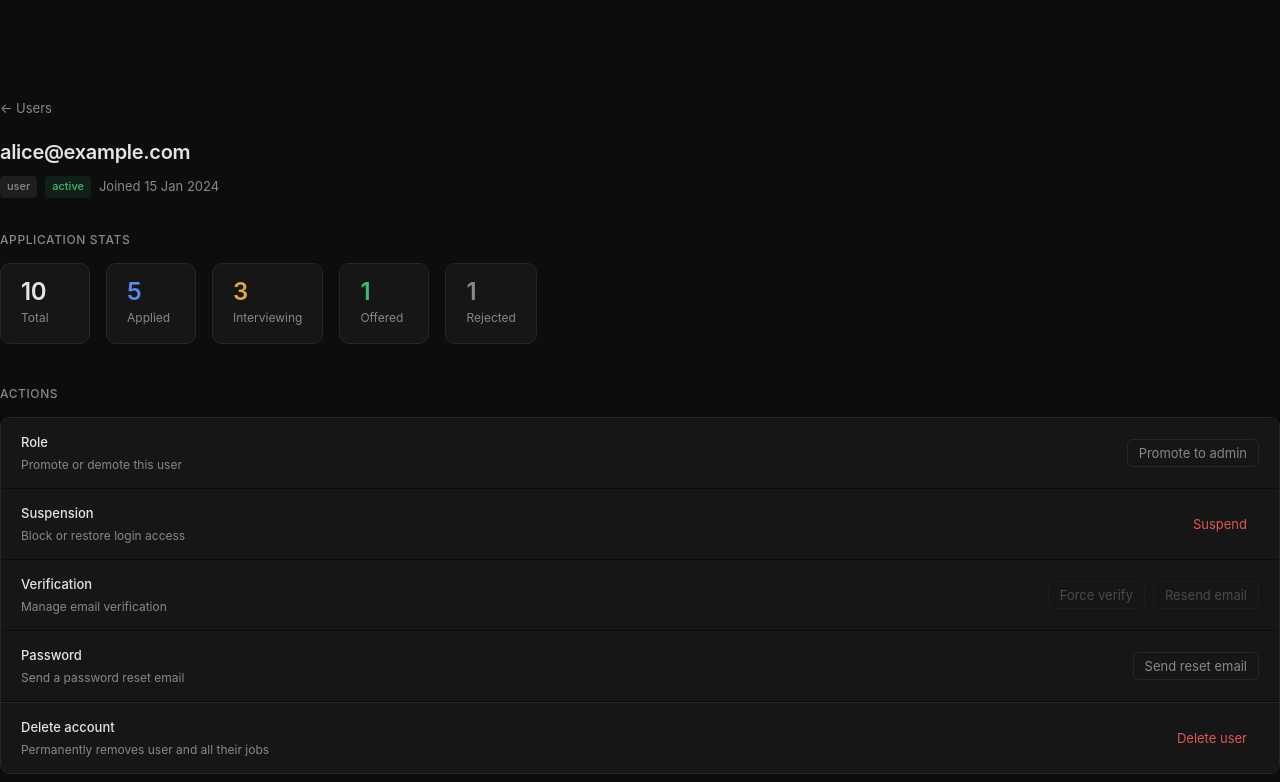
AdminUserDetail › optimistically updates role badge after setRole succeeds
Click the button "Promote to admin".
click(1193, 453)  # box x1=1127 y1=439 x2=1259 y2=467
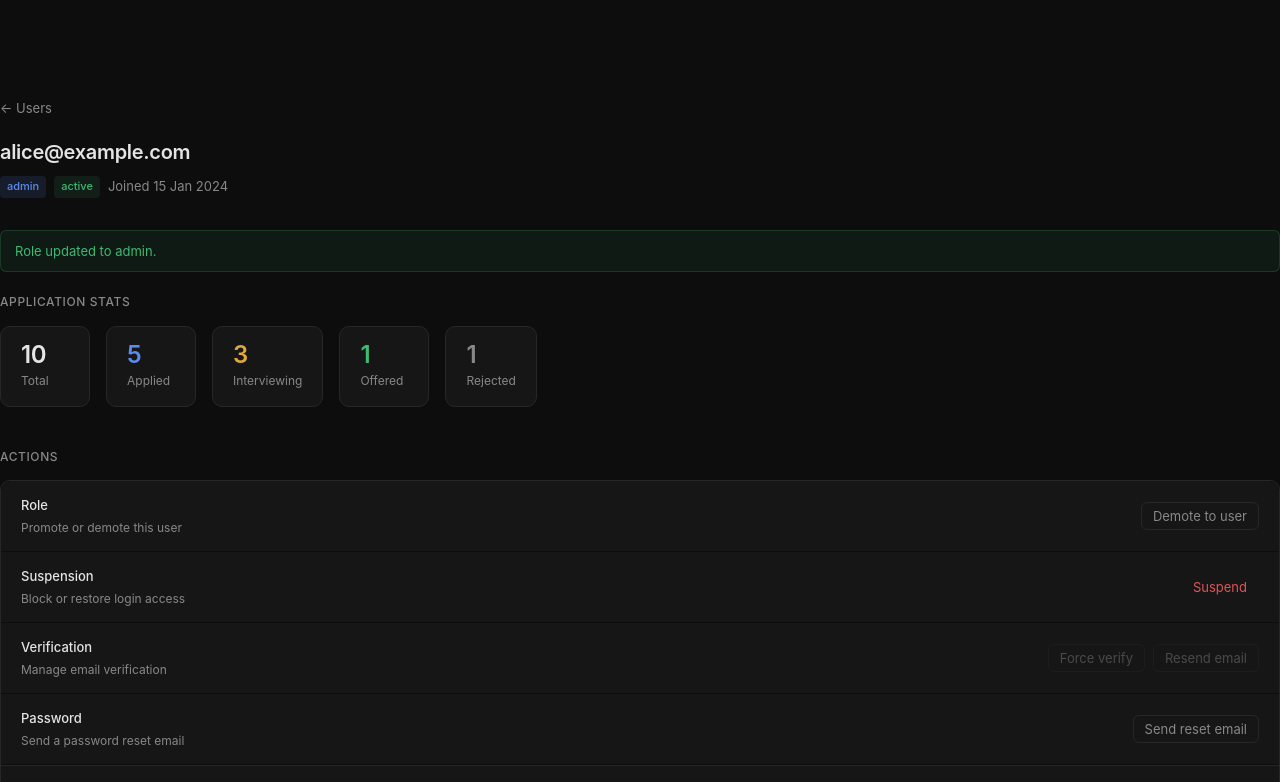
Expected: the text "admin" is shown, x1=0 y1=176 x2=46 y2=198
